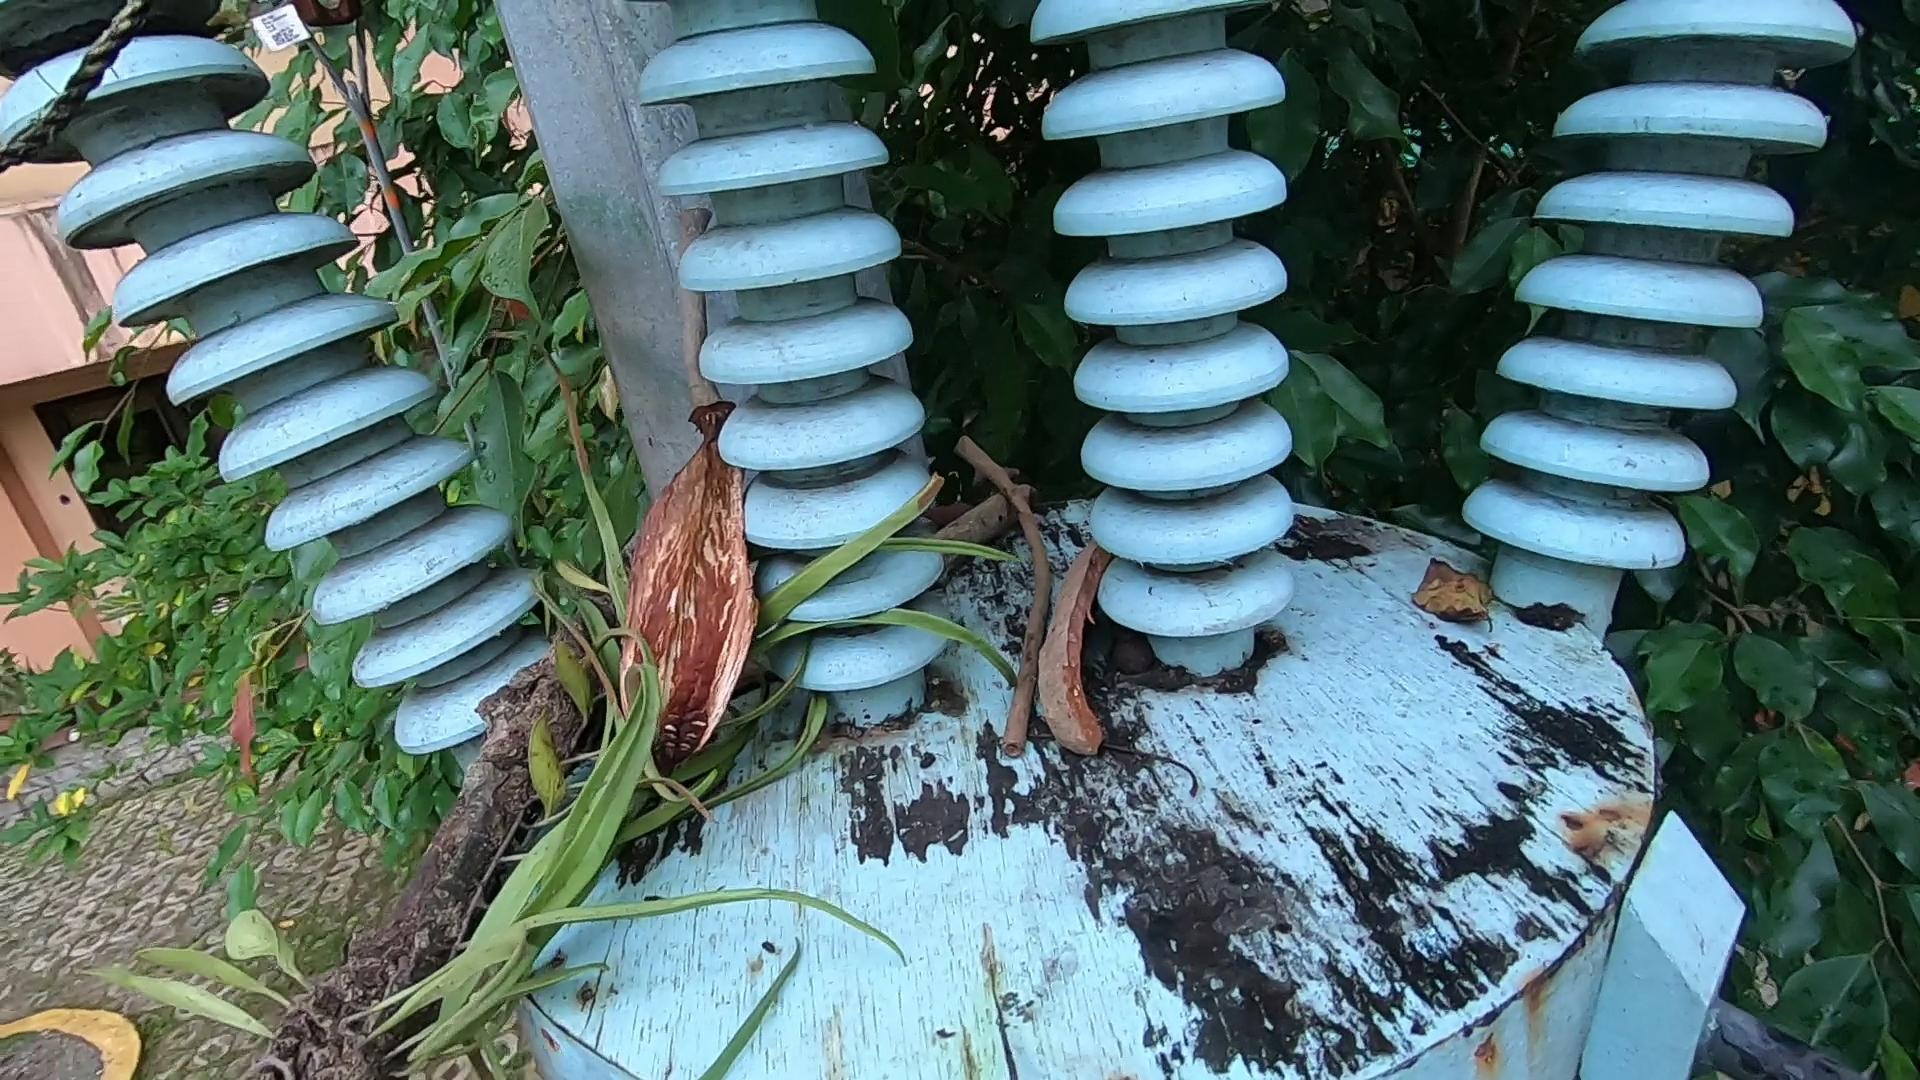branch with leaves: (229, 465, 996, 1080)
leaf: (1418, 542, 1485, 638)
mahogany fruit: (593, 375, 781, 765), (1065, 526, 1137, 800)
tree branch: (942, 413, 1060, 771), (679, 199, 724, 419)
